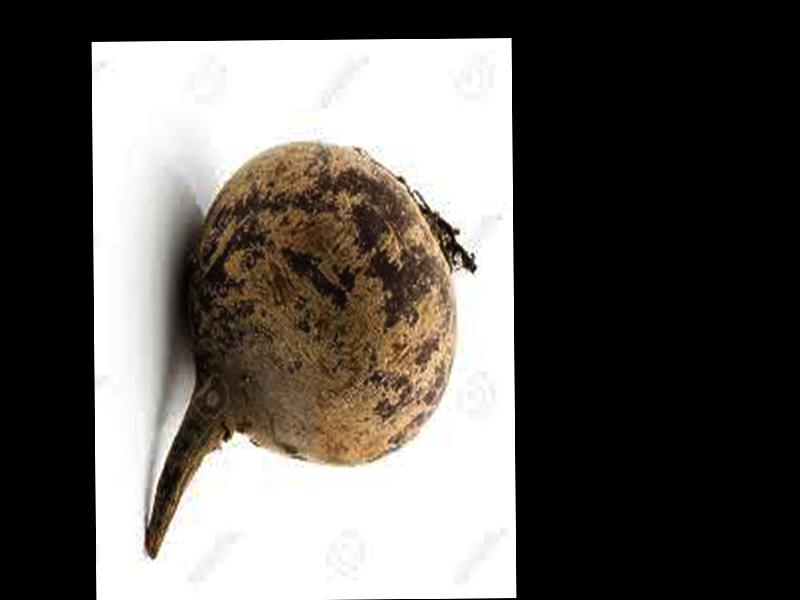Beet: (143, 139, 478, 556)
